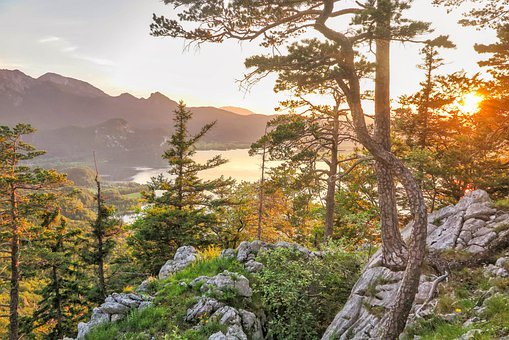forest: (13, 176, 509, 334)
mountain: (4, 64, 300, 147)
tree: (291, 1, 429, 340), (10, 140, 190, 304)
